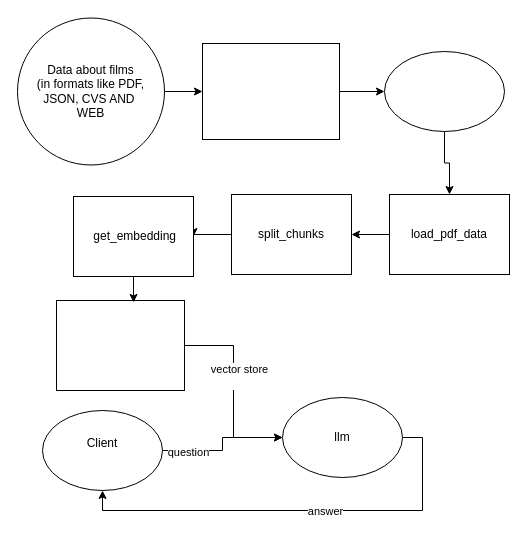
This 527x536 diagram has some shape labels left out. Here are the shapes that lost their labels. From the top down, the centre of each, then its label:
[271,91]: Do Text Extract
[444,91]: Pdf with data
[120,345]: get_chunk_embeddings
